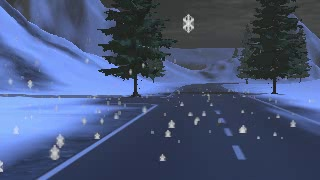Lane: (41, 82, 319, 179)
